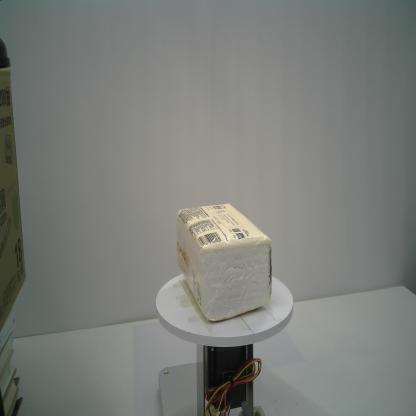Tissue: (176, 203, 273, 322)
